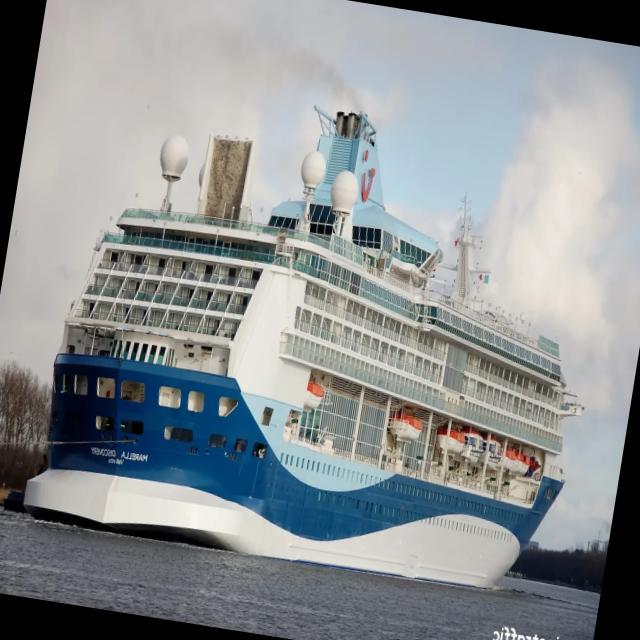Cruise: (24, 109, 581, 587), (161, 136, 188, 206)
